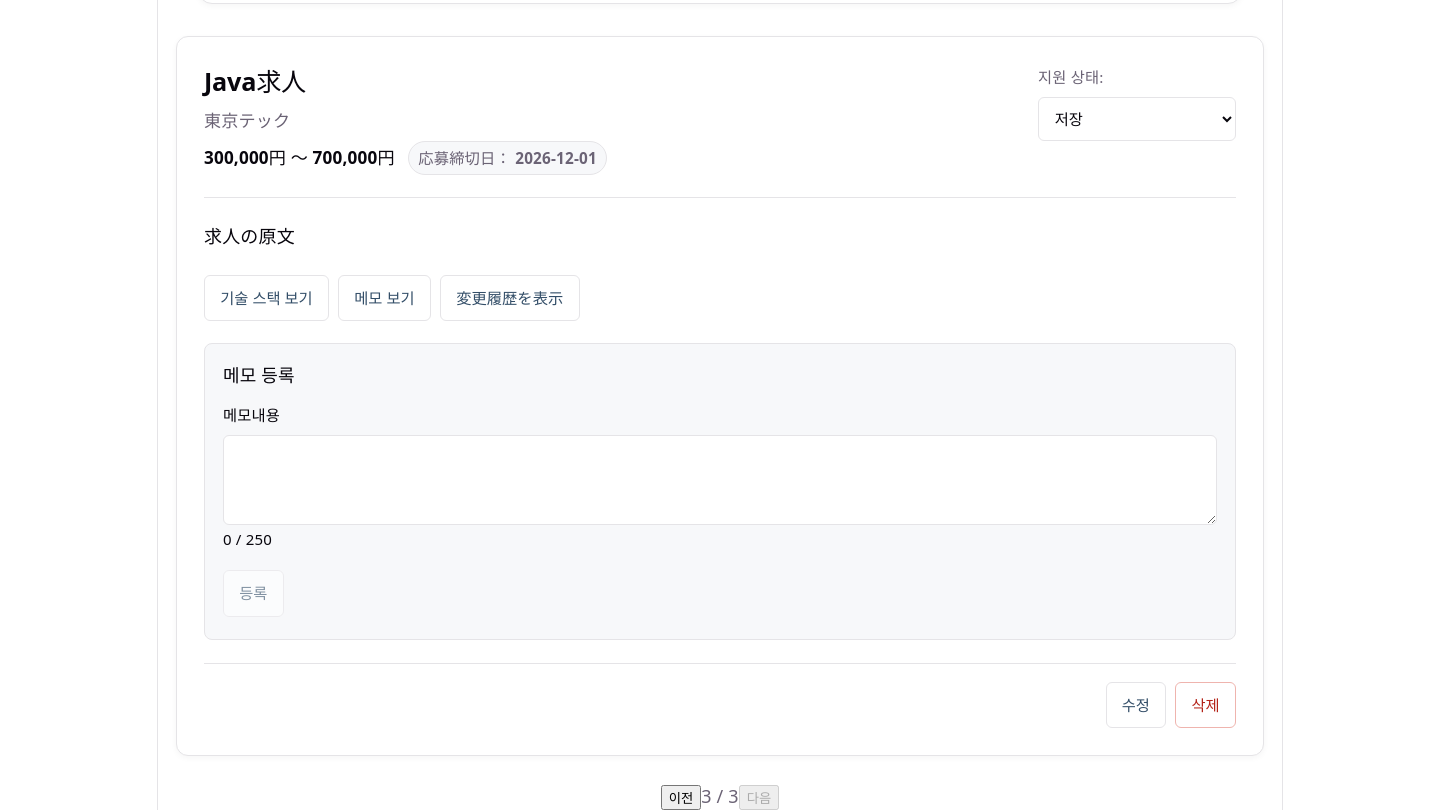
it: 更新完了後の一覧再取得 › 最終ページの最後の求人を削除したら最後の有効ページを表示する
(page scrolled)
Expected: the heading "Java求人" is shown, [204,64,306,98]
Click the button "삭제" at (1206, 705), box [1175,682,1236,728]
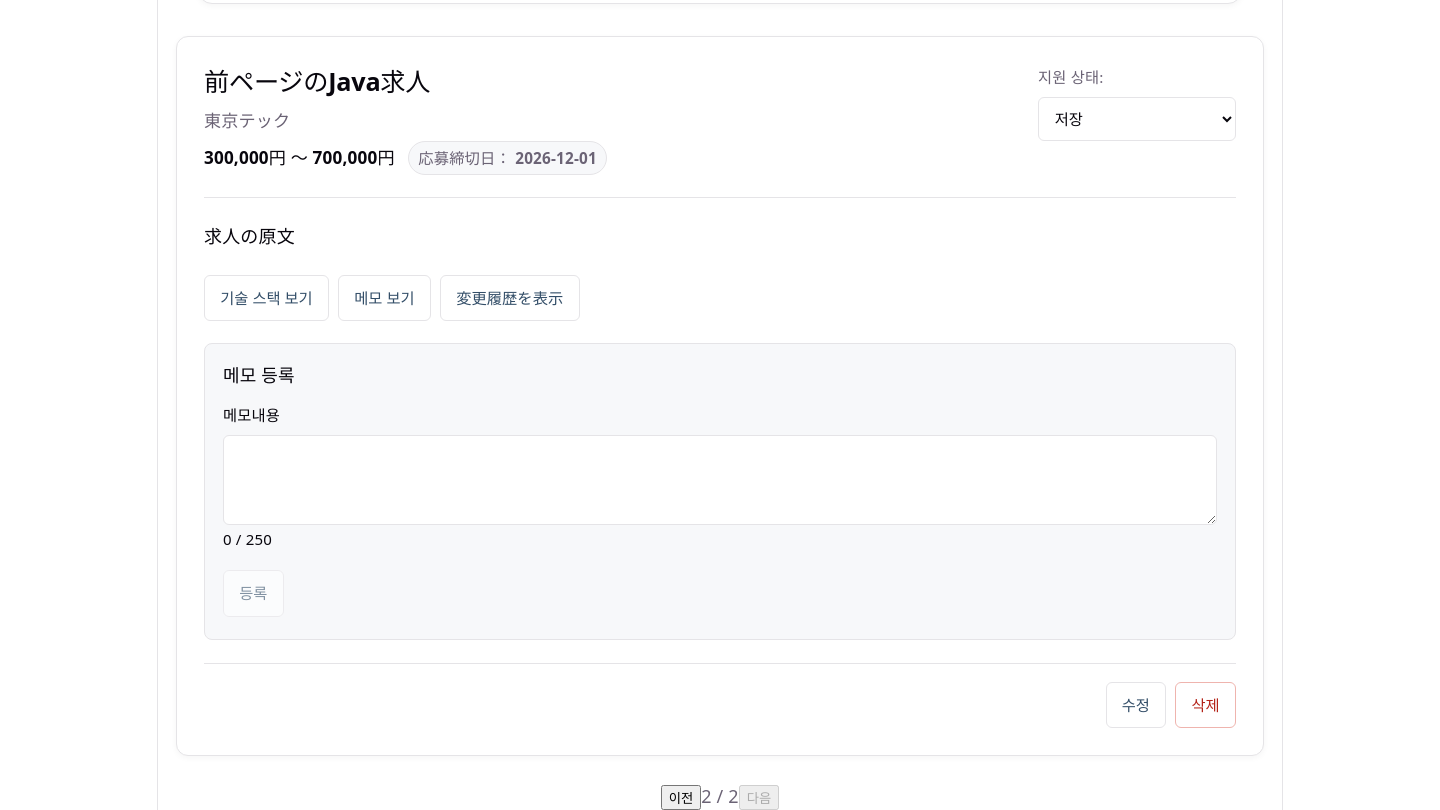
Result: the heading "前ページのJava求人" is shown at [204,64,430,98]
Result: the text "2 / 2" is shown at [701,784,739,808]
